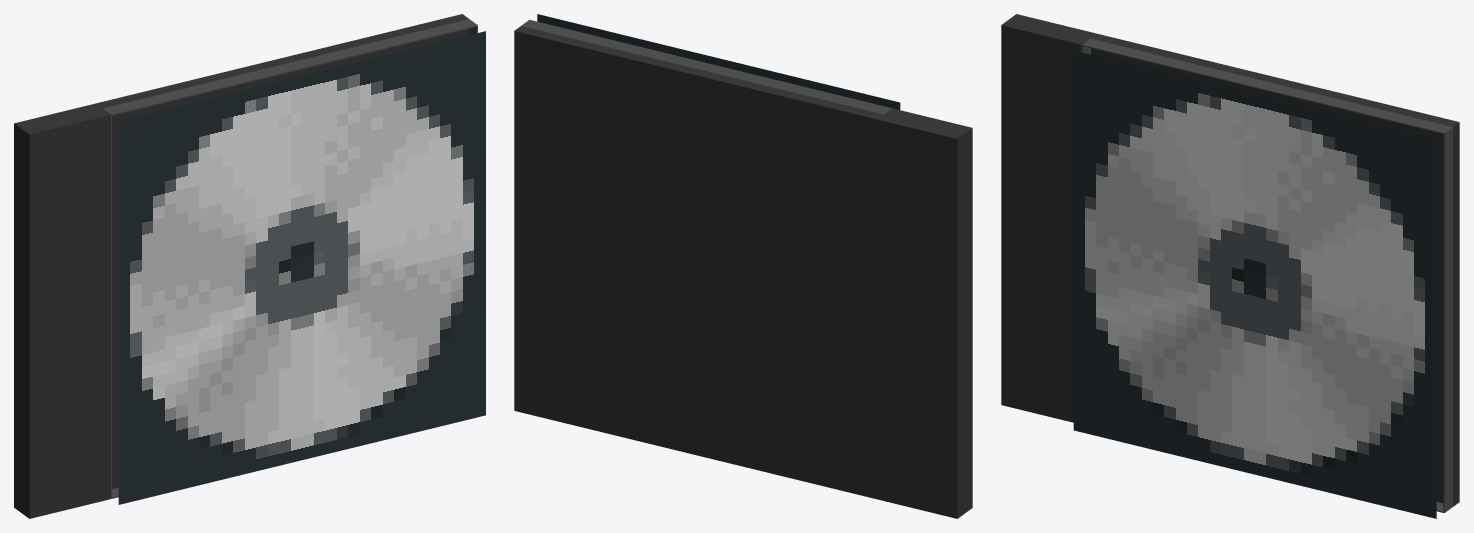
The model's file is disk.glb.
3 renders of one model, left to right at view 1: azimuth 30°, elevation 25°; view 2: azimuth 150°, elevation 25°; view 3: azimuth 330°, elevation 25°, orthographic.
Parts seen in each view (by area): view 1: Cube.002, Cube.004, Cube.001; view 2: Cube.004, Cube.001, Cube.002; view 3: Cube.002, Cube.004, Cube.001.
Boxes of the visible parts, x1=… form: Cube.002: x1=118, y1=31, x2=485, y2=504; Cube.004: x1=14, y1=14, x2=468, y2=518; Cube.001: x1=102, y1=19, x2=477, y2=498; Cube.004: x1=514, y1=26, x2=972, y2=518; Cube.001: x1=521, y1=20, x2=892, y2=114; Cube.002: x1=537, y1=14, x2=900, y2=109; Cube.002: x1=1073, y1=50, x2=1436, y2=518; Cube.004: x1=1001, y1=14, x2=1459, y2=506; Cube.001: x1=1081, y1=38, x2=1452, y2=512.
Size of the model in its own units: 0.7919 by 0.6485 by 0.0715.
Materials: 3 (3 with a texture image).
